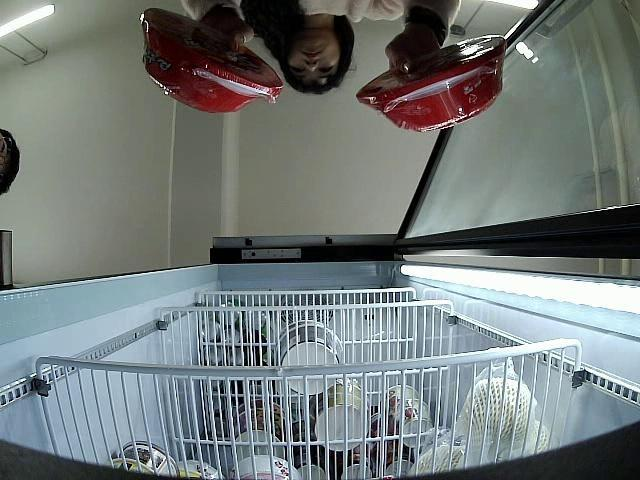10_wangTtukkeong: (138, 10, 282, 118), (356, 36, 507, 133)
